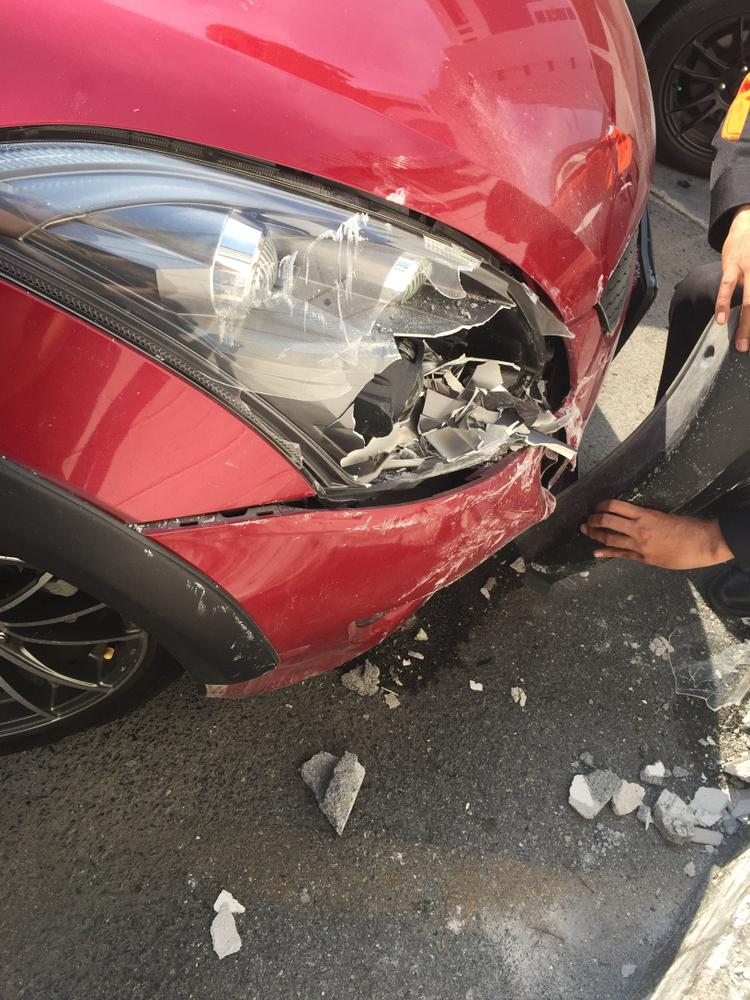lamp broken: (0, 129, 568, 494)
scratch: (336, 451, 556, 610)
